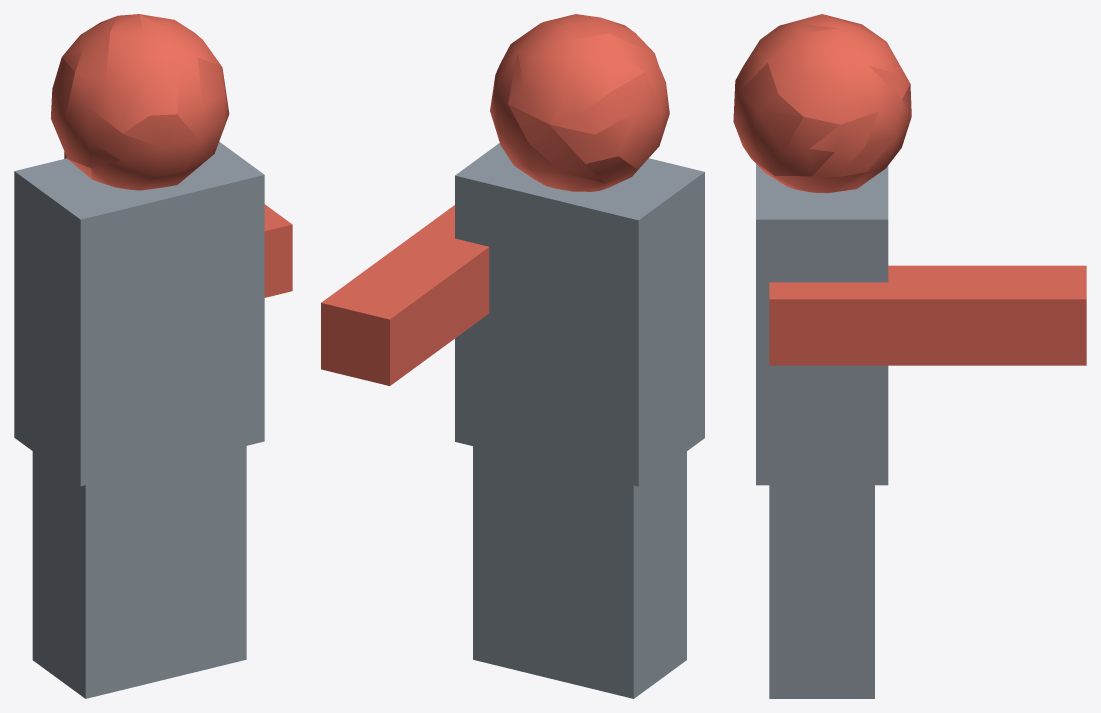
File: SU_ZaslonAATeam_LOD2.glb
3 views of the same model, side by side, from view 1: azimuth 30°, elevation 25°; view 2: azimuth 150°, elevation 25°; view 3: azimuth 270°, elevation 25° (orthographic).
Parts seen in each view (by area): view 1: Head; view 2: Head; view 3: Head.
Boxes of the visible parts, <box> form: Head: <box>14,14,292,698</box>; Head: <box>321,14,704,698</box>; Head: <box>733,14,1086,698</box>.
Bounding box in the file's own units: 61.75 × 172 × 86.81.
